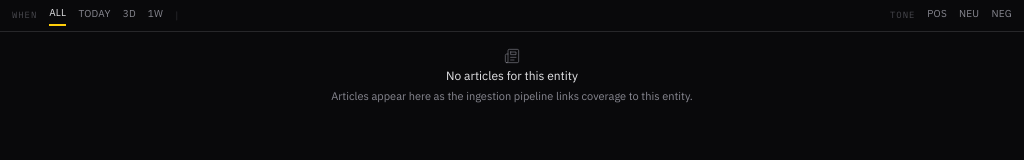
NewsColumn named empty state (Round-3 consolidation) › offers a Clear-filters action when a filter is active, which resets both filters
The image size is (1024, 160).
# Activate the TODAY time filter via the NewsFilters strip.
Click the button "TODAY". click: {"x": 94, "y": 16}
box: [78,6,111,24]
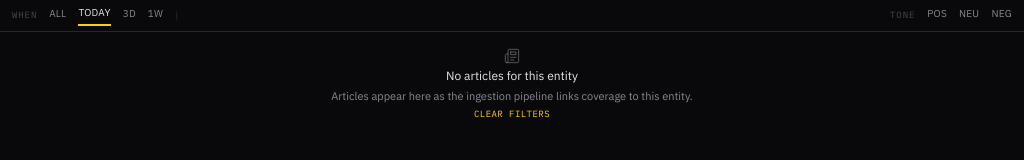
Click the button "Clear filters". click: {"x": 512, "y": 114}
box: [474,108,550,121]
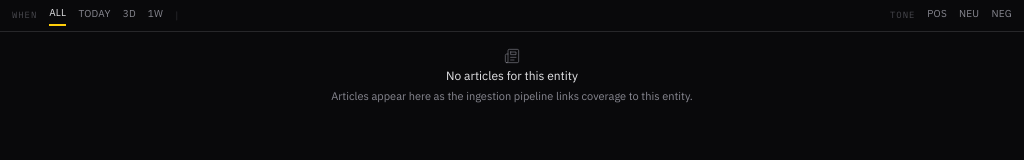
Check: the button "Clear filters" is gone
